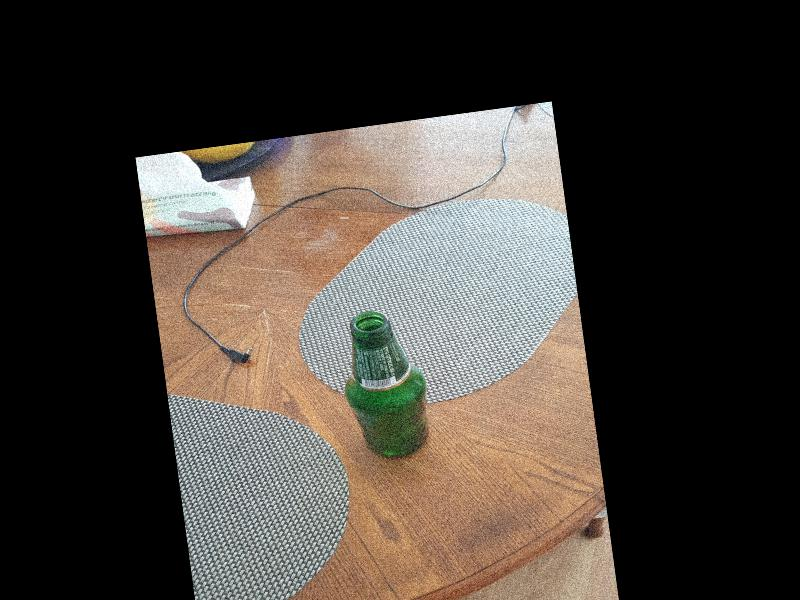Beer: (337, 304, 434, 463)
